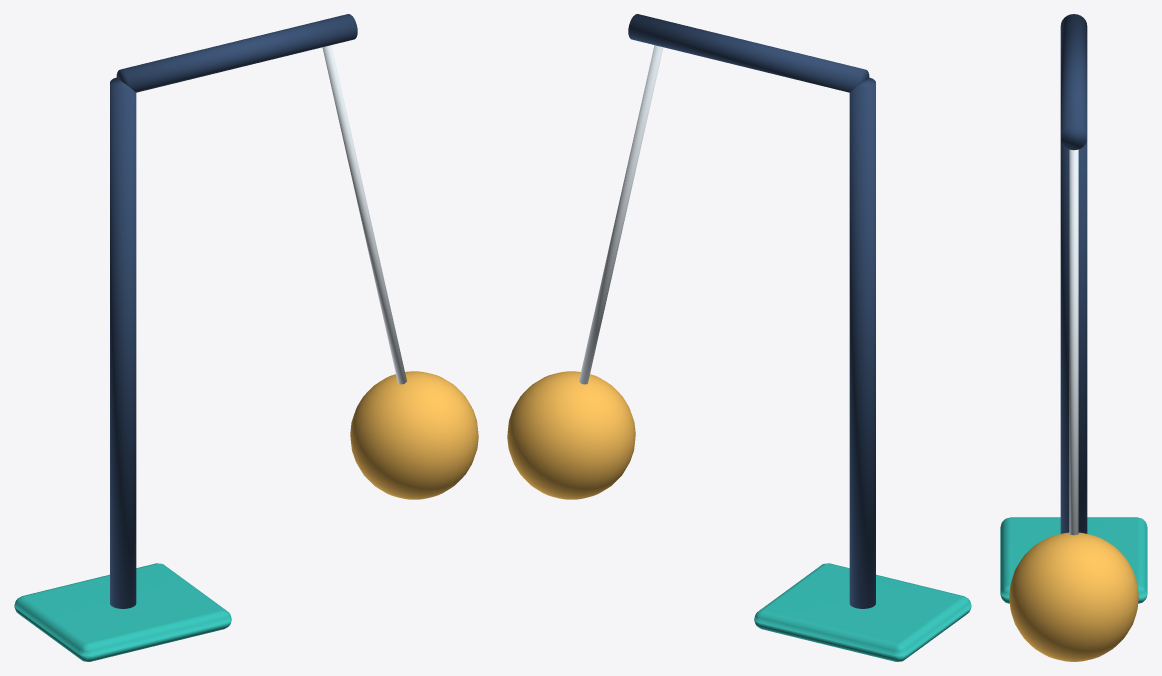
The model's file is pendulum-quality.glb.
3 renders of one model, left to right at view 1: azimuth 30°, elevation 25°; view 2: azimuth 150°, elevation 25°; view 3: azimuth 270°, elevation 25°, orthographic.
Visible parts, largest first — view 1: Frame; view 2: Frame; view 3: Frame.
Boxes of the visible parts, bbox=[...] form: Frame: bbox=[14, 14, 478, 661]; Frame: bbox=[507, 14, 971, 661]; Frame: bbox=[1000, 14, 1147, 661].
Size of the model in its own units: 1.67 by 2.08 by 0.5.
